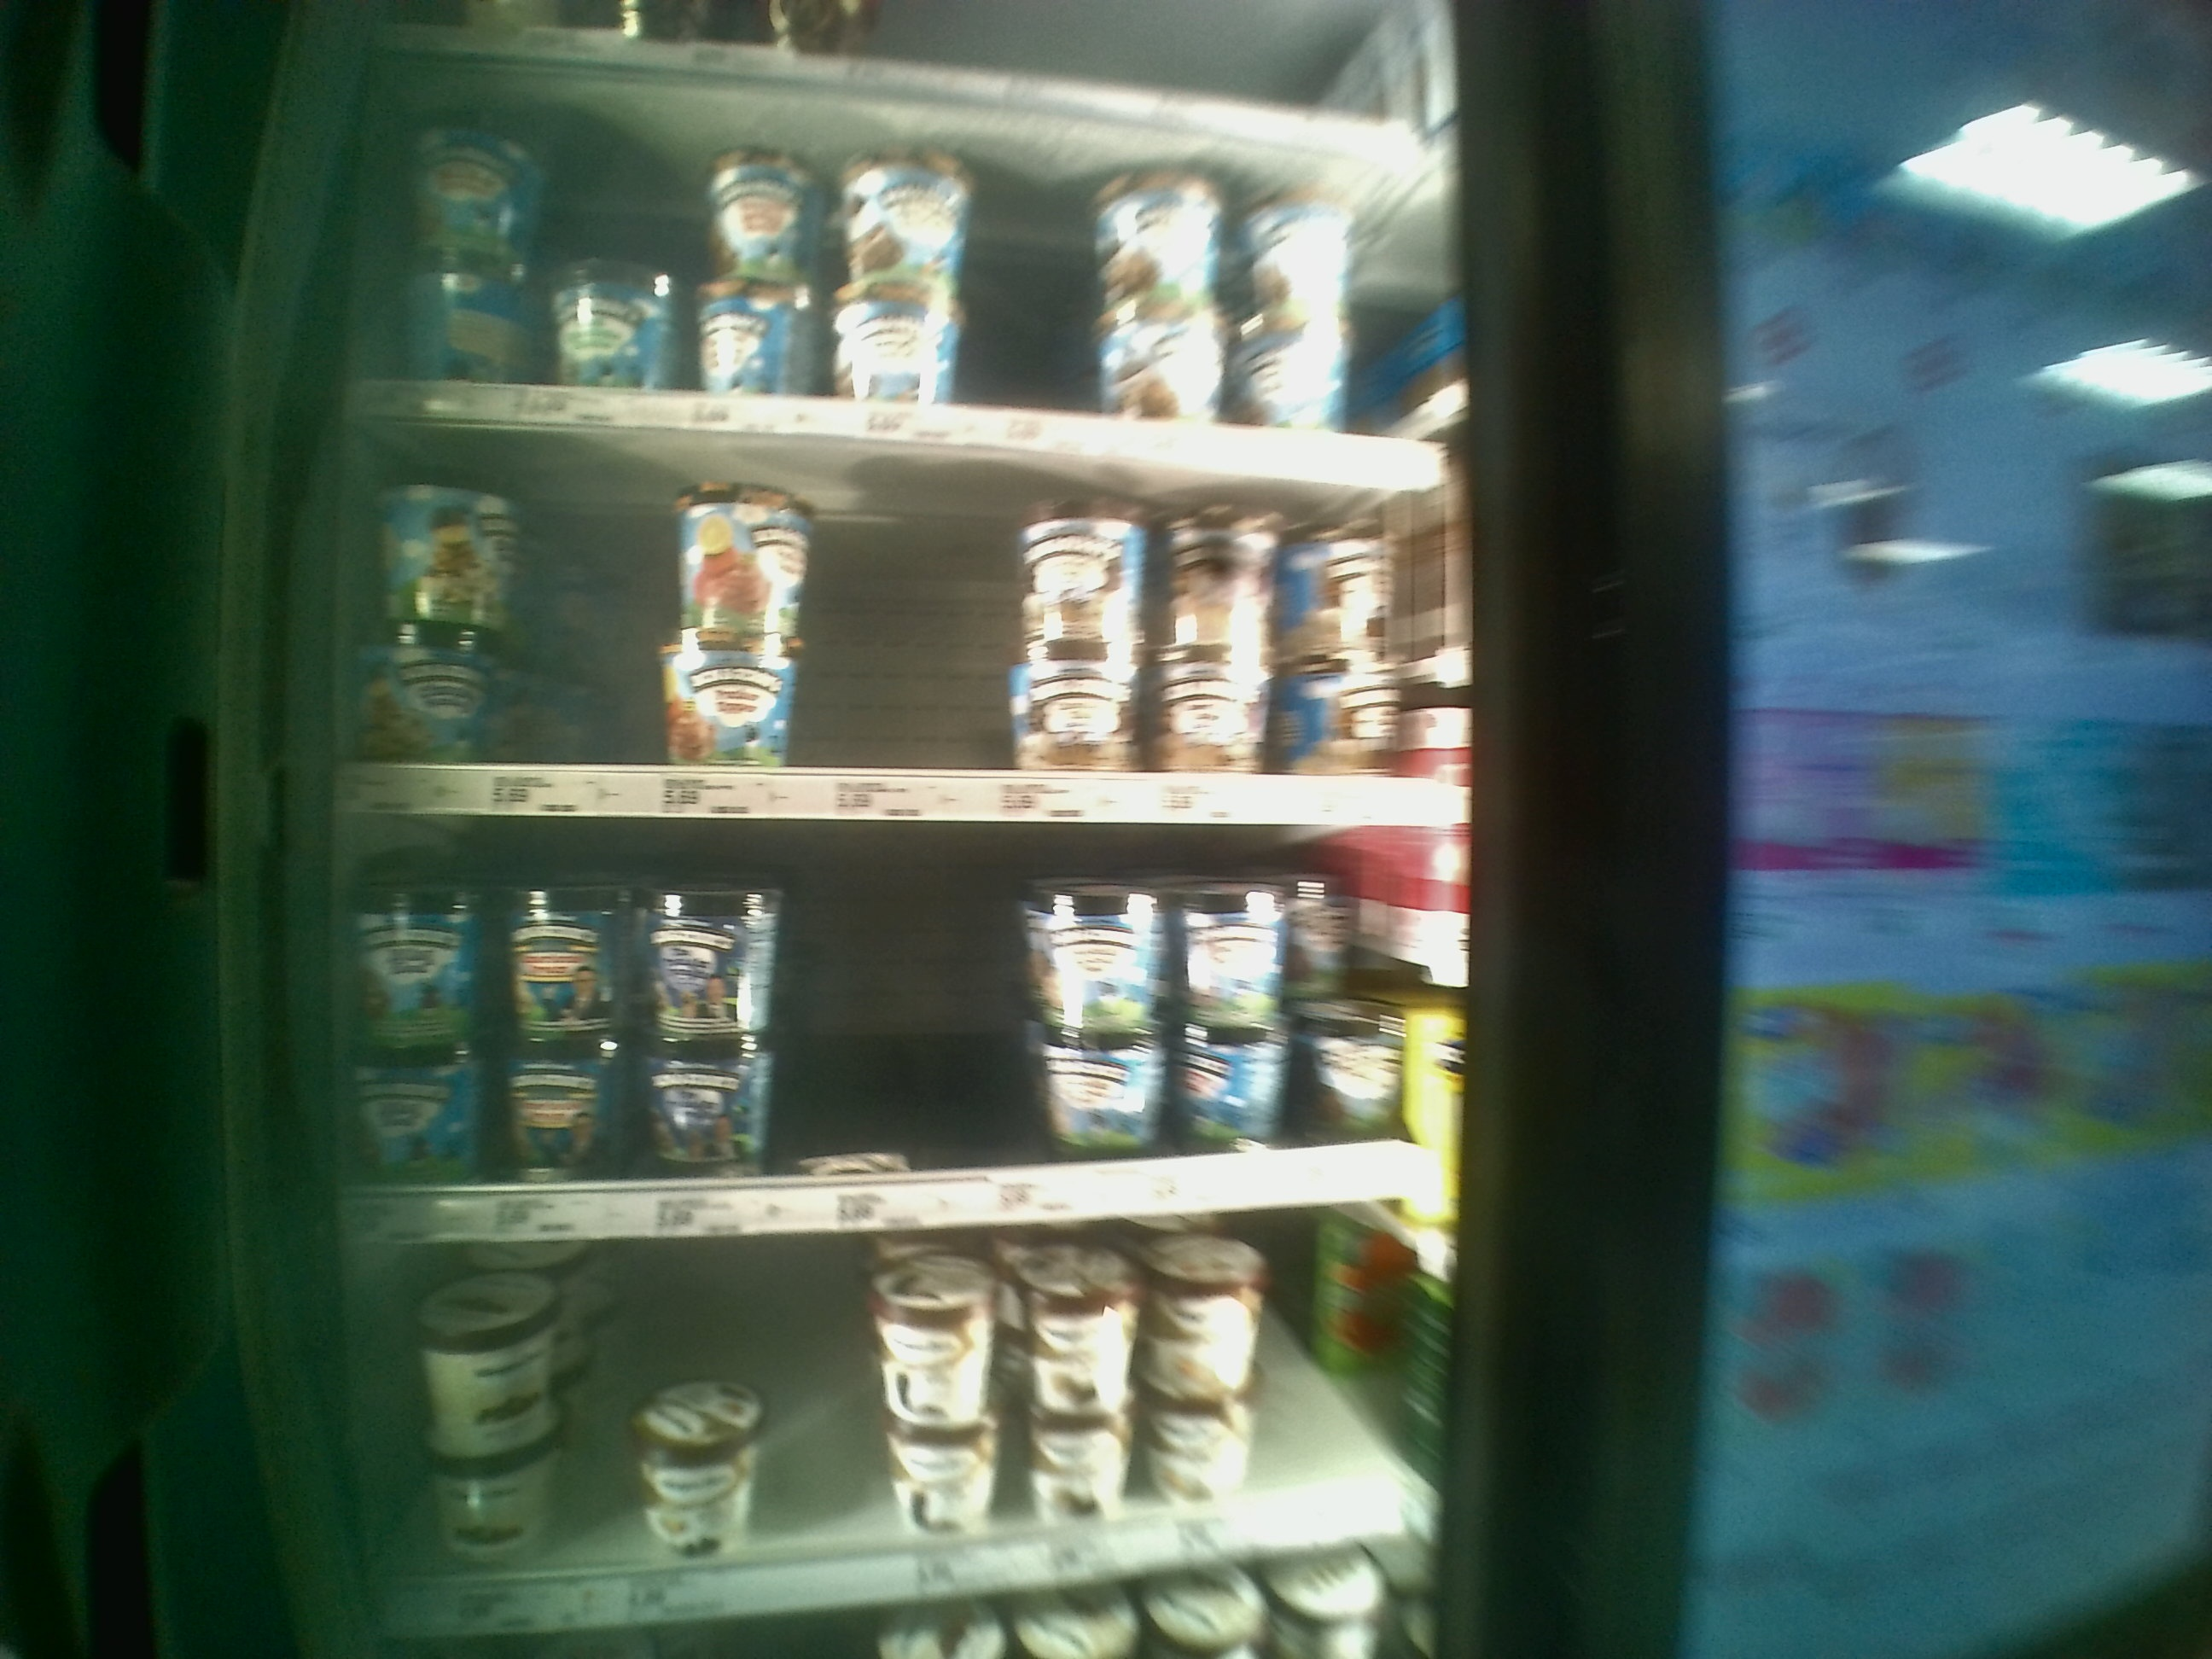shelf: (324, 420, 1486, 817), (308, 814, 1465, 1213)
